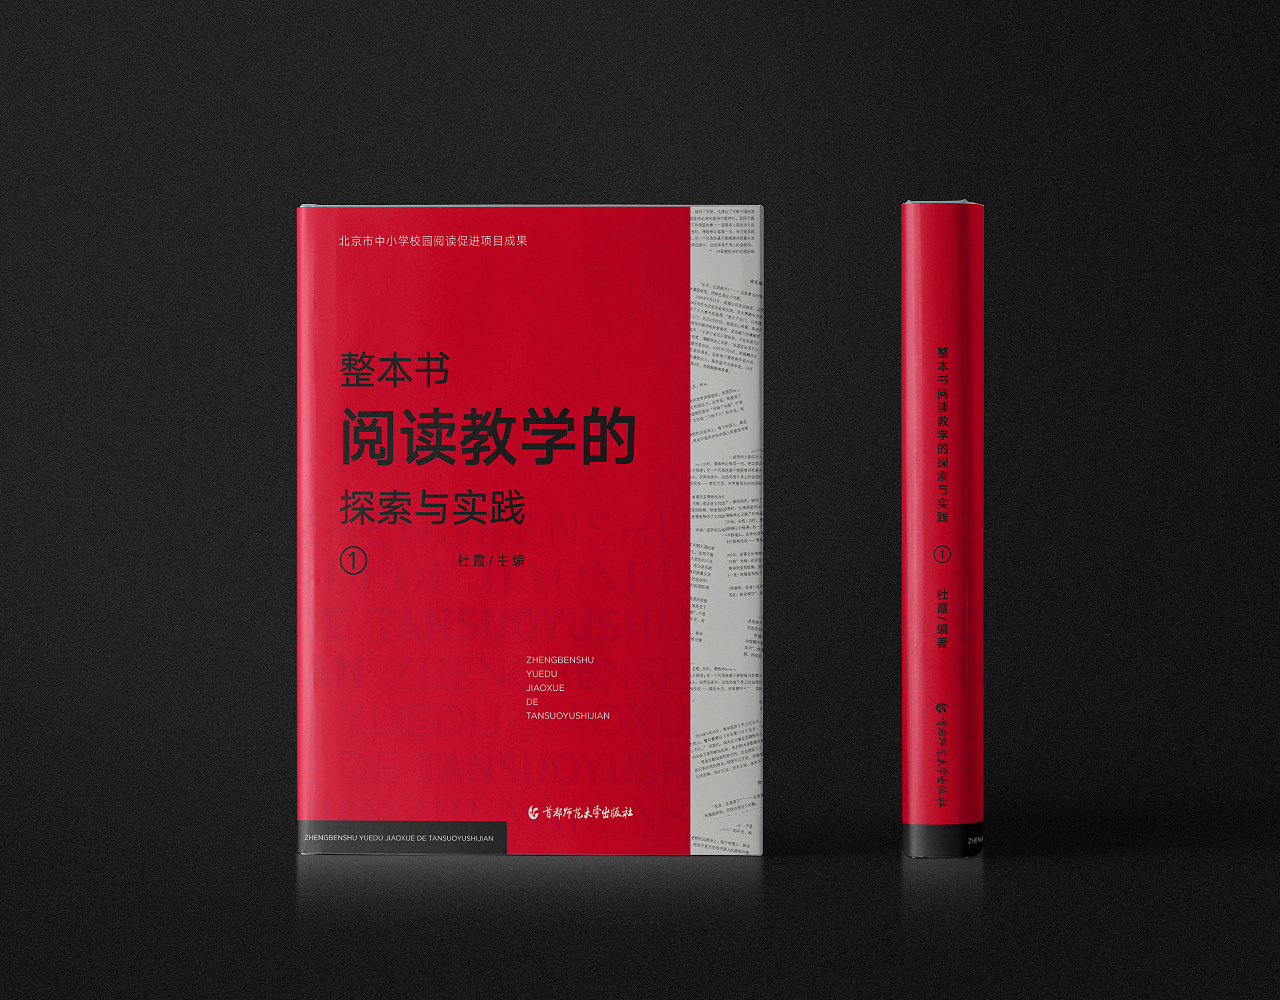book: (292, 192, 769, 870), (901, 192, 983, 868)
